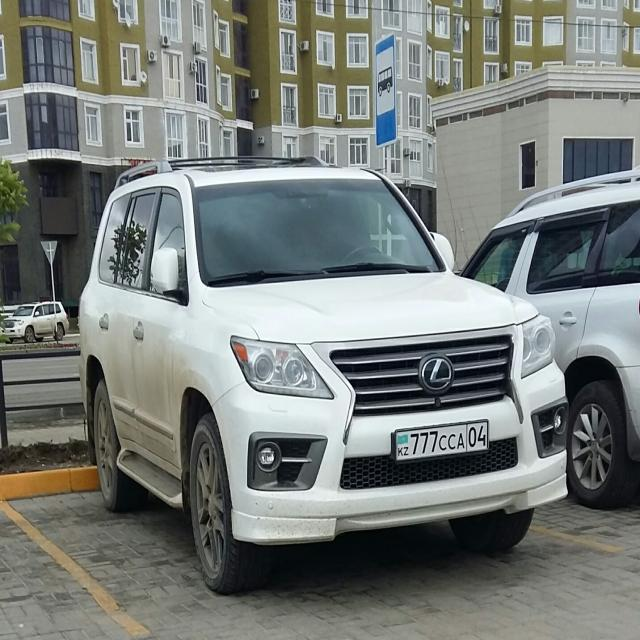car: (77, 154, 570, 595), (456, 165, 640, 510)
license: (394, 418, 489, 462)
